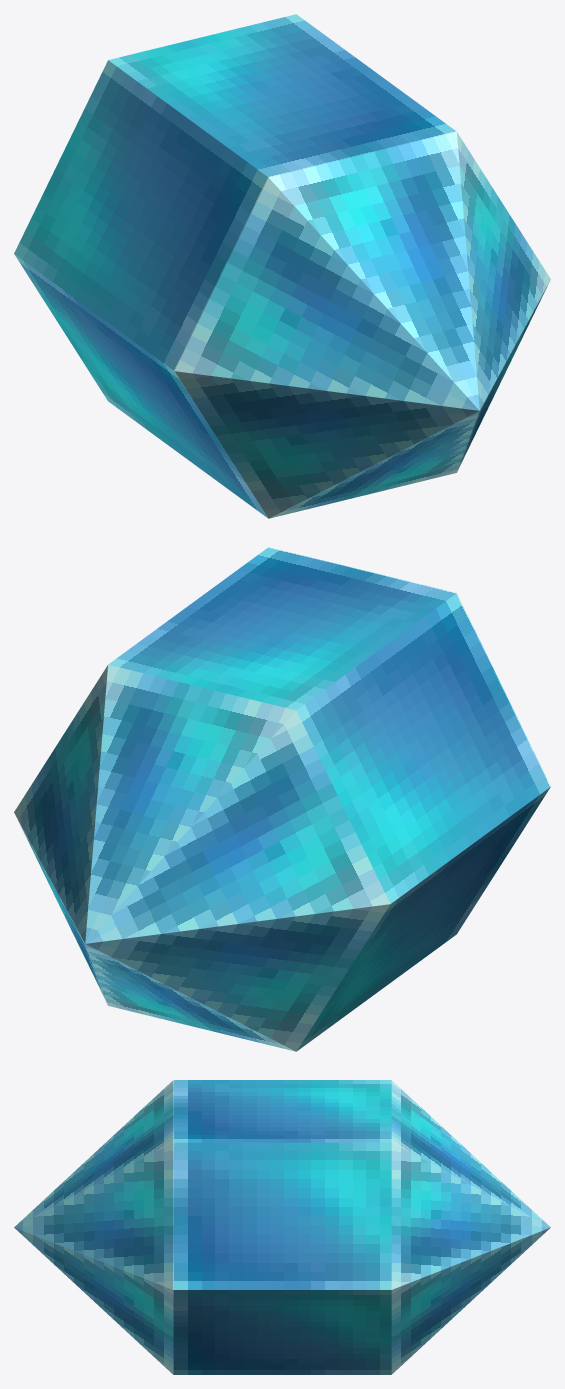
File: suho.glb
3 views of the same model, one above another, from view 1: azimuth 30°, elevation 25°; view 2: azimuth 150°, elevation 25°; view 3: azimuth 270°, elevation 25° (orthographic). The views are drawn at different scales.
Visible parts, largest first — view 1: model_suho; view 2: model_suho; view 3: model_suho.
Part boxes in pixels (x1,y1,x2,y2): model_suho: [14, 14, 550, 518]; model_suho: [14, 547, 550, 1051]; model_suho: [14, 1080, 550, 1374].
Size of the model in its own units: 0.1616 by 0.14 by 0.2933.
Materials: 1 (1 with a texture image).
